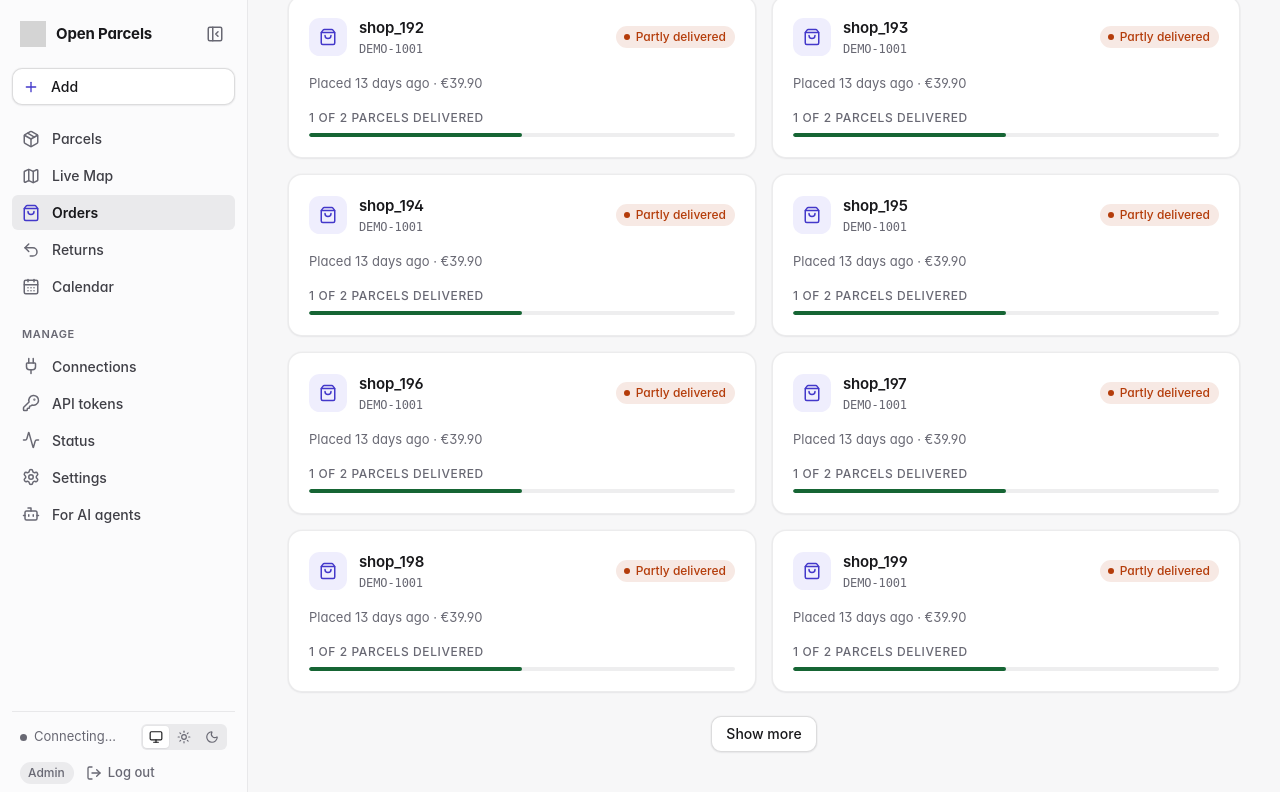
Test: orders page › loads further pages of orders from the server on request
(page scrolled)
Click the button "Show more": point(764, 734) [711,716,817,752]
(page scrolled)
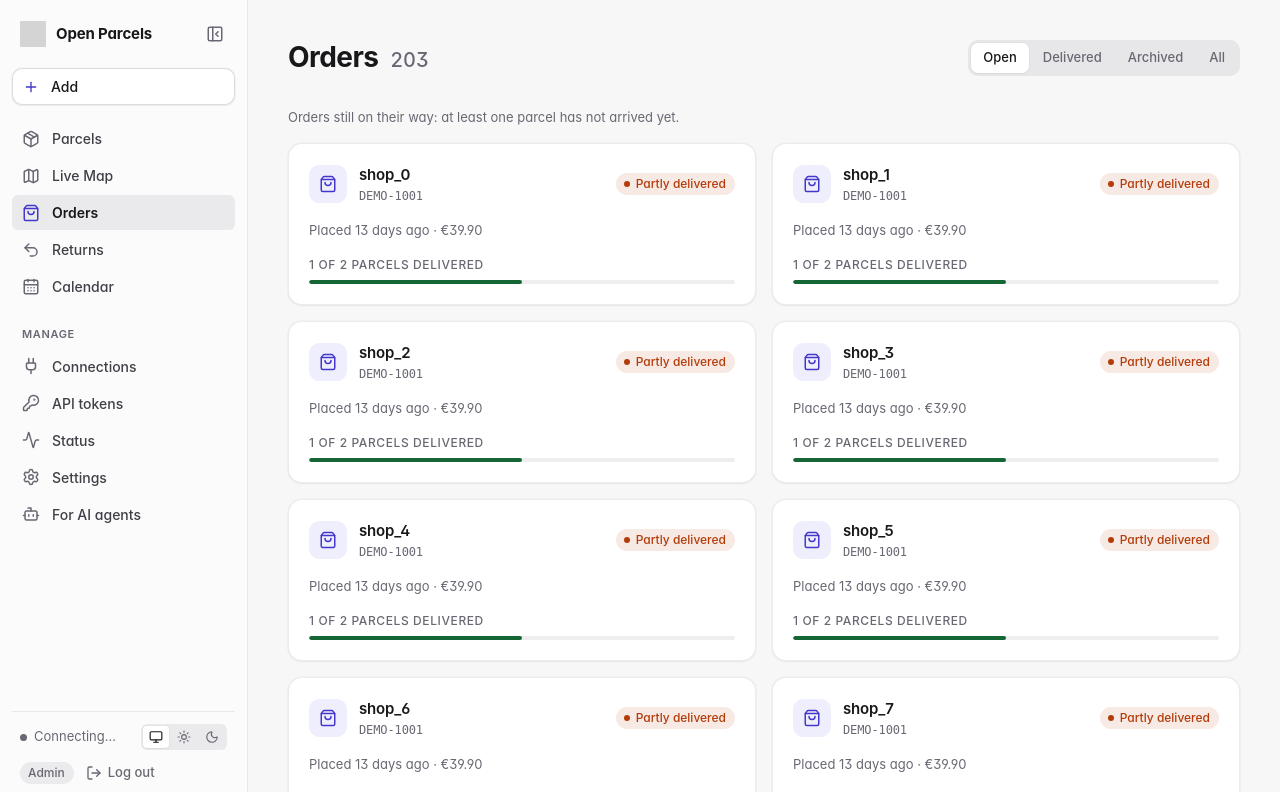
expect the text "203" is shown: met, box [390,45,429,75]
expect the button "Show more" is gone: met
